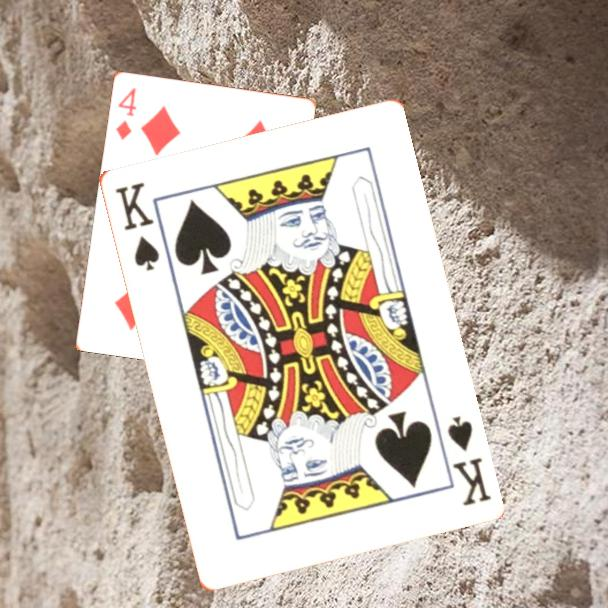d04: (112, 84, 139, 142)
s13: (111, 178, 162, 274), (443, 412, 493, 509)
